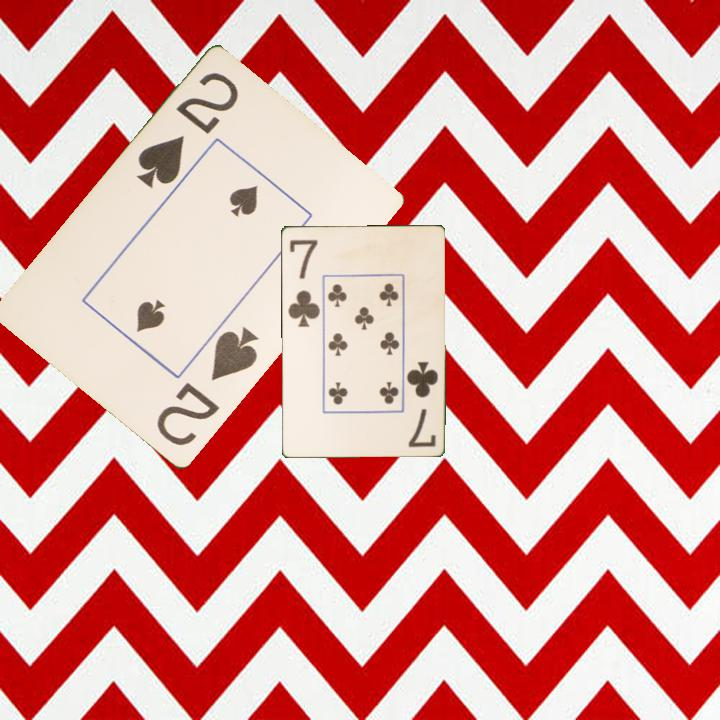2s: (152, 323, 262, 450), (133, 69, 242, 193)
7c: (284, 235, 322, 330), (403, 358, 440, 450)
